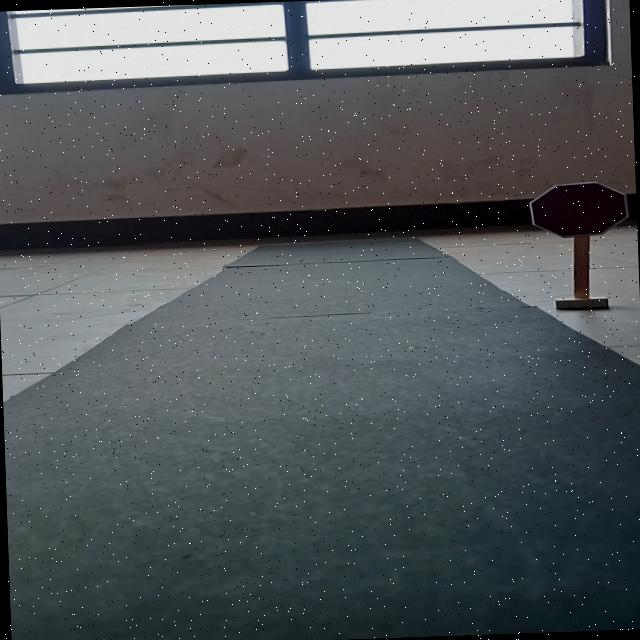Stop: (526, 180, 630, 240)
